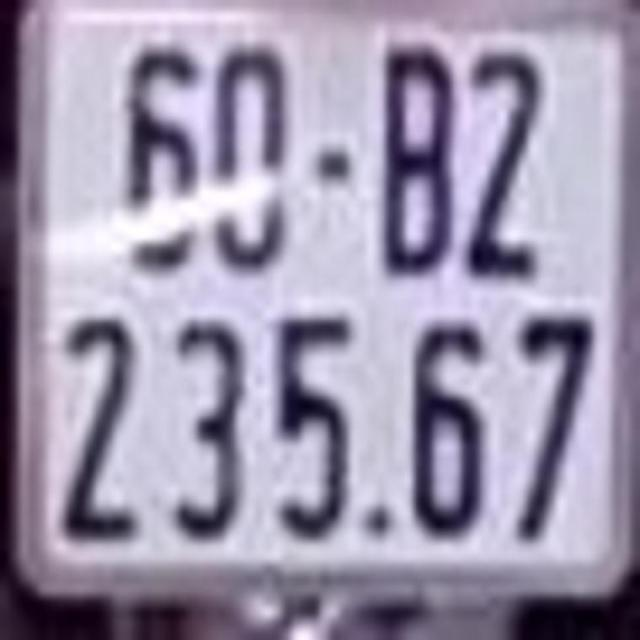0: (210, 34, 289, 273)
2: (468, 42, 544, 284), (58, 313, 137, 538)
3: (174, 306, 244, 544)
5: (268, 308, 351, 542)
6: (119, 36, 203, 270), (408, 306, 484, 538)
7: (514, 304, 594, 545)
B: (375, 34, 458, 280)
